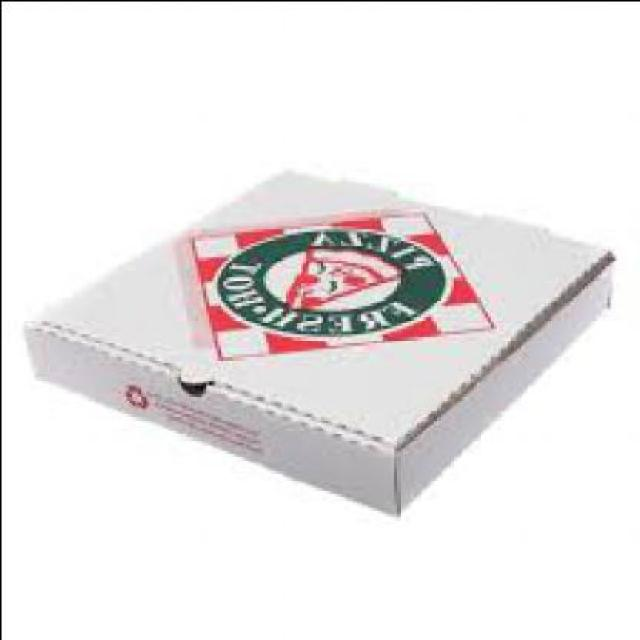CARDBOARD: (29, 162, 617, 512)
